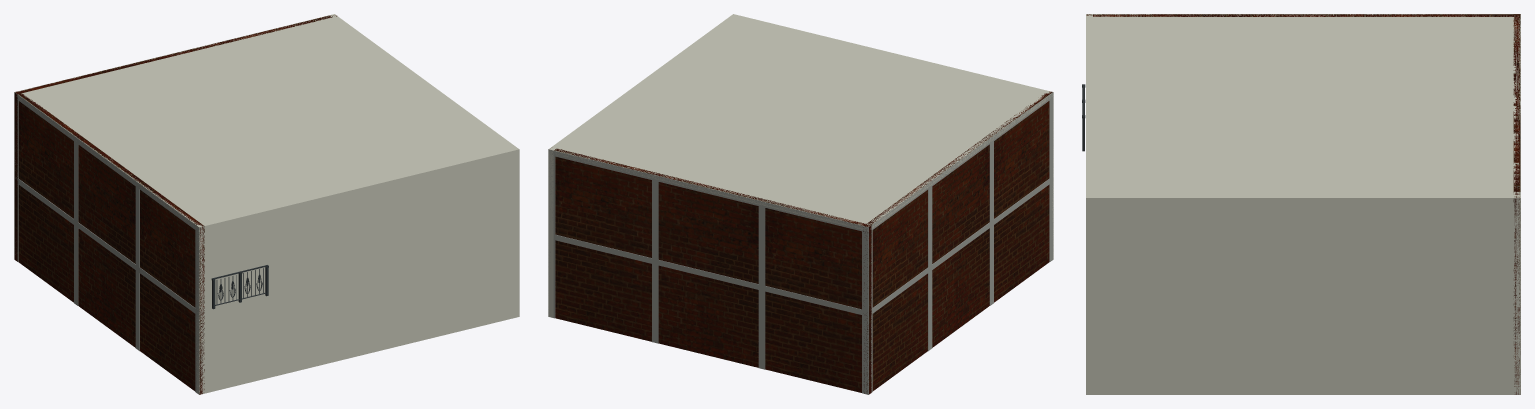
Rendered from building.glb.
3 views of the same model, side by side, from view 1: azimuth 30°, elevation 25°; view 2: azimuth 150°, elevation 25°; view 3: azimuth 270°, elevation 25° (orthographic). The views are drawn at different scales.
Visible parts, largest first — view 1: roof/house:0/roof_slab#0001, house:0/edge0/z0/house:0/edge0/z0/wall_0_0, house:0/edge3/z0/house:0/edge3/z0/wall_0_0, house:0/edge2/z0/house:0/edge2/z0/wall_0_0, house:0/edge3/z0/house:0/edge3/z0/beam_1_0, house:0/edge3/z0/house:0/edge3/z0/beam_0_0, house:0/edge1/z0/house:0/edge1/z0/wall_0_0; view 2: roof/house:0/roof_slab#0001, house:0/edge2/z0/house:0/edge2/z0/wall_0_0, house:0/edge3/z0/house:0/edge3/z0/wall_0_0, house:0/edge1/z0/house:0/edge1/z0/wall_0_0, house:0/edge2/z0/house:0/edge2/z0/beam_0_0, house:0/edge2/z0/house:0/edge2/z0/beam_1_0, house:0/edge0/z0/house:0/edge0/z0/wall_0_0, house:0/edge3/z0/house:0/edge3/z0/beam_0_0, house:0/edge3/z0/house:0/edge3/z0/beam_1_0, house:0/edge2/z0/house:0/edge2/z0/column_3_0, house:0/edge2/z0/house:0/edge2/z0/column_3_1, house:0/edge2/z0/house:0/edge2/z0/column_1_0 (+3 smaller); view 3: house:0/edge1/z0/house:0/edge1/z0/wall_0_0, roof/house:0/roof_slab#0001, house:0/edge0/z0/house:0/edge0/z0/wall_0_0, house:0/edge2/z0/house:0/edge2/z0/wall_0_0, house:0/edge3/z0/house:0/edge3/z0/wall_0_0, house:0/edge3/z0/house:0/edge3/z0/beam_1_0.
Boxes of the visible parts, bbox=[...] form: roof/house:0/roof_slab#0001: bbox=[14, 14, 518, 231]; house:0/edge0/z0/house:0/edge0/z0/wall_0_0: bbox=[196, 147, 519, 394]; house:0/edge3/z0/house:0/edge3/z0/wall_0_0: bbox=[15, 91, 204, 394]; house:0/edge2/z0/house:0/edge2/z0/wall_0_0: bbox=[14, 15, 336, 261]; house:0/edge3/z0/house:0/edge3/z0/beam_1_0: bbox=[15, 92, 199, 232]; house:0/edge3/z0/house:0/edge3/z0/beam_0_0: bbox=[14, 177, 199, 316]; house:0/edge1/z0/house:0/edge1/z0/wall_0_0: bbox=[330, 14, 519, 316]; roof/house:0/roof_slab#0001: bbox=[548, 15, 1052, 231]; house:0/edge2/z0/house:0/edge2/z0/wall_0_0: bbox=[554, 148, 871, 394]; house:0/edge3/z0/house:0/edge3/z0/wall_0_0: bbox=[863, 91, 1052, 394]; house:0/edge1/z0/house:0/edge1/z0/wall_0_0: bbox=[548, 14, 737, 317]; house:0/edge2/z0/house:0/edge2/z0/beam_0_0: bbox=[553, 234, 868, 316]; house:0/edge2/z0/house:0/edge2/z0/beam_1_0: bbox=[548, 149, 868, 232]; house:0/edge0/z0/house:0/edge0/z0/wall_0_0: bbox=[731, 14, 1053, 259]; house:0/edge3/z0/house:0/edge3/z0/beam_0_0: bbox=[871, 176, 1053, 313]; house:0/edge3/z0/house:0/edge3/z0/beam_1_0: bbox=[869, 92, 1053, 230]; house:0/edge2/z0/house:0/edge2/z0/column_3_0: bbox=[758, 206, 765, 285]; house:0/edge2/z0/house:0/edge2/z0/column_3_1: bbox=[758, 290, 765, 369]; house:0/edge2/z0/house:0/edge2/z0/column_1_0: bbox=[862, 315, 868, 394]; house:0/edge1/z0/house:0/edge1/z0/wall_0_0: bbox=[1086, 194, 1520, 394]; roof/house:0/roof_slab#0001: bbox=[1086, 14, 1520, 201]; house:0/edge0/z0/house:0/edge0/z0/wall_0_0: bbox=[1086, 14, 1092, 394]; house:0/edge2/z0/house:0/edge2/z0/wall_0_0: bbox=[1513, 14, 1520, 394]; house:0/edge3/z0/house:0/edge3/z0/wall_0_0: bbox=[1086, 14, 1520, 16]; house:0/edge3/z0/house:0/edge3/z0/beam_1_0: bbox=[1093, 14, 1513, 14].
Size of the model in its own units: 12 by 6 by 12.11.
4 materials, 1 textured.
